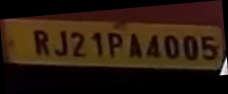character: (32, 29, 50, 56), (69, 30, 86, 57), (182, 34, 199, 61), (200, 35, 217, 61), (106, 31, 122, 58), (163, 33, 179, 59), (53, 30, 68, 57), (128, 31, 143, 58), (90, 30, 103, 58)
